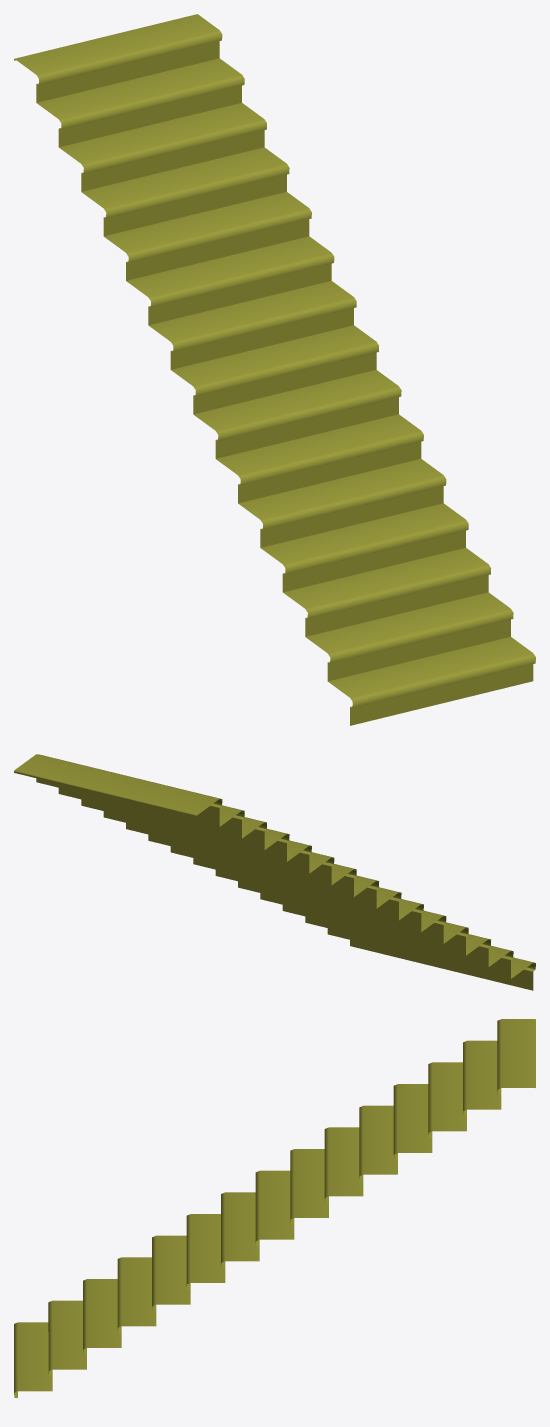
File: COL_Stairs_Steps.FBX
3 renders of one model, top to bottom at view 1: azimuth 30°, elevation 25°; view 2: azimuth 150°, elevation 25°; view 3: azimuth 270°, elevation 25°, orthographic. The views are drawn at different scales.
Visible parts, largest first — view 1: COL_Stairs_Steps; view 2: COL_Stairs_Steps; view 3: COL_Stairs_Steps.
Boxes of the visible parts, x1,y1,x2,y2 form: COL_Stairs_Steps: (14, 14, 535, 725); COL_Stairs_Steps: (14, 754, 535, 990); COL_Stairs_Steps: (14, 1019, 535, 1398).
Size of the model in its own units: 159 by 350 by 510.
